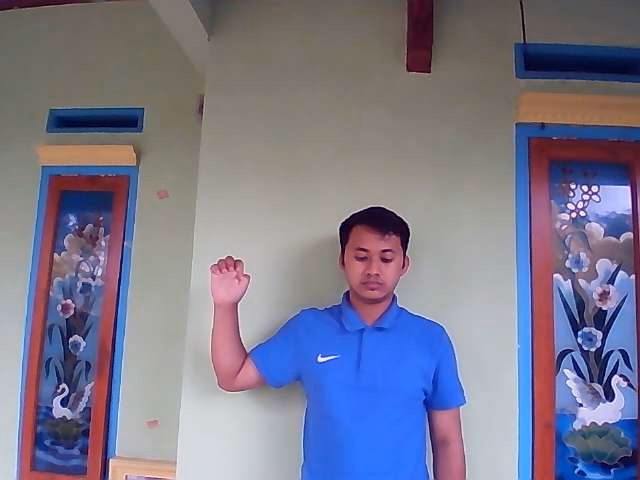E: (208, 254, 251, 308)
